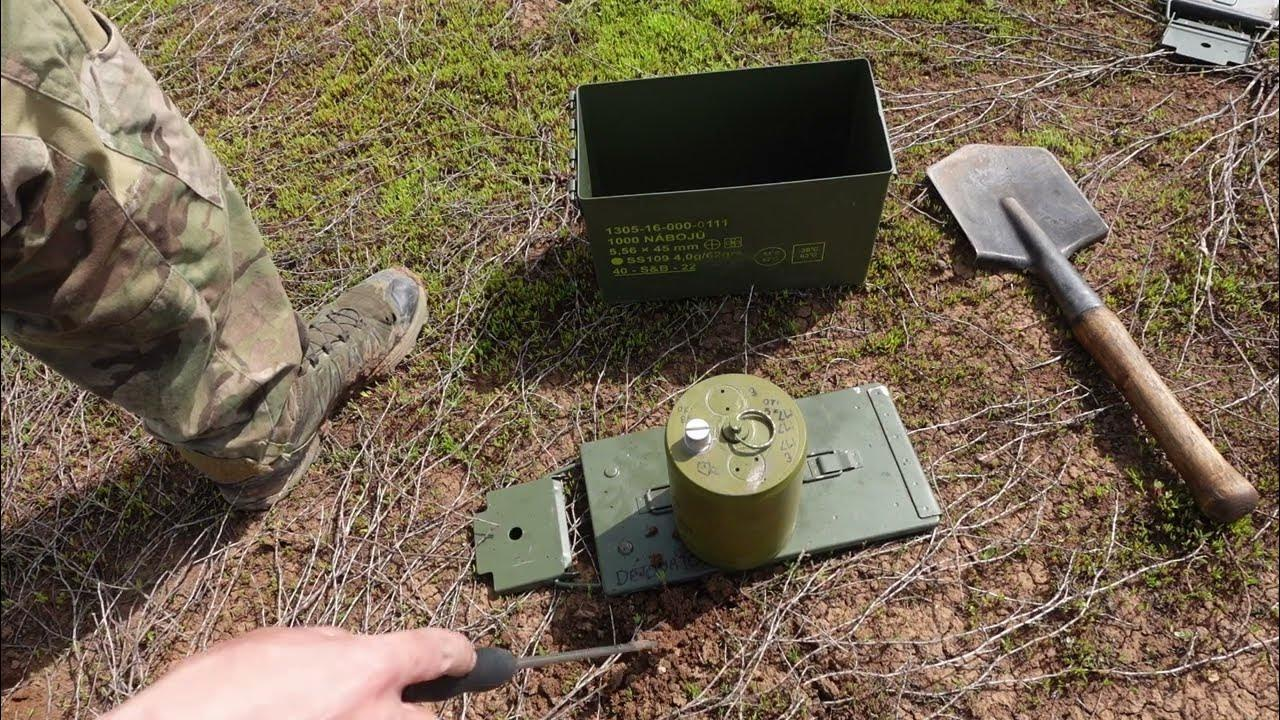OZM 72: (662, 373, 808, 569)
